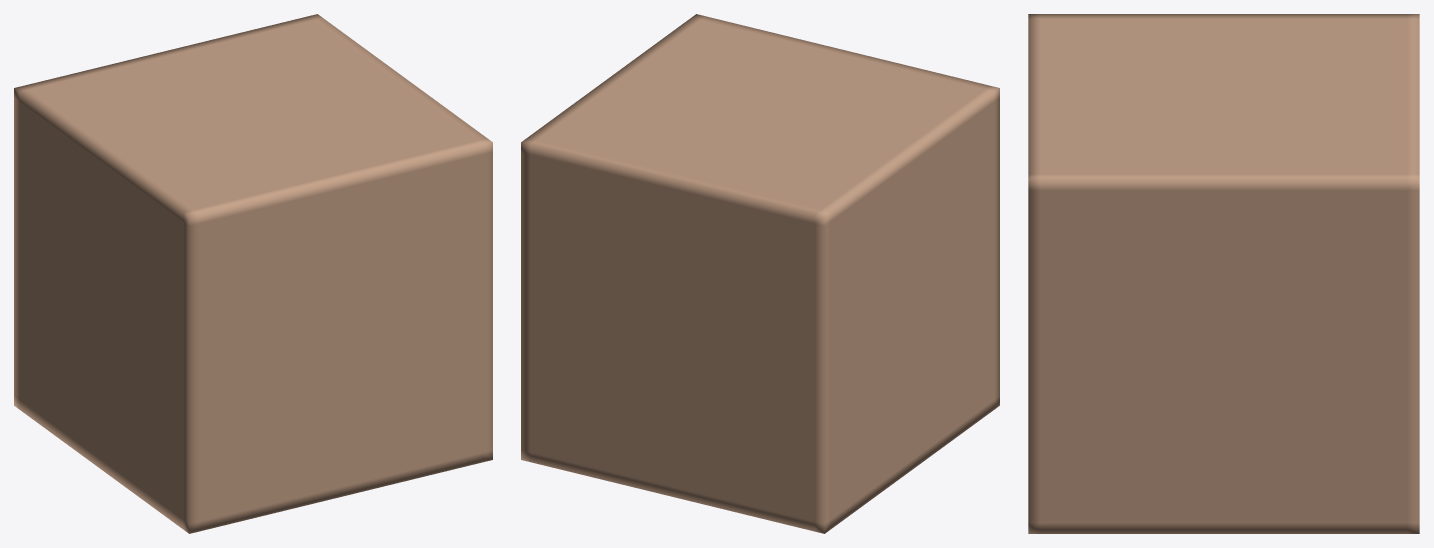
The model's file is ReferenceCube.fbx.
The picture shows the model from 3 angles, left to right: view 1: azimuth 30°, elevation 25°; view 2: azimuth 150°, elevation 25°; view 3: azimuth 270°, elevation 25°; orthographic projection. The views are drawn at different scales.
Parts seen in each view (by area): view 1: cube; view 2: cube; view 3: cube.
Boxes of the visible parts, x1,y1,x2,y2 form: cube: [14, 14, 492, 533]; cube: [521, 14, 999, 533]; cube: [1028, 14, 1419, 533].
Size of the model in its own units: 150 by 150 by 150.
